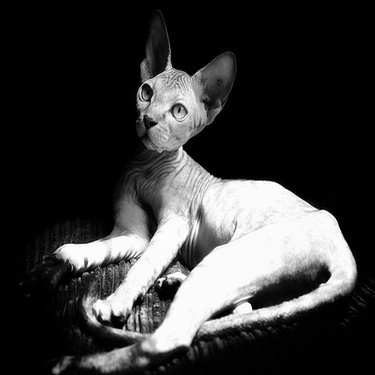cat: (15, 12, 357, 354)
